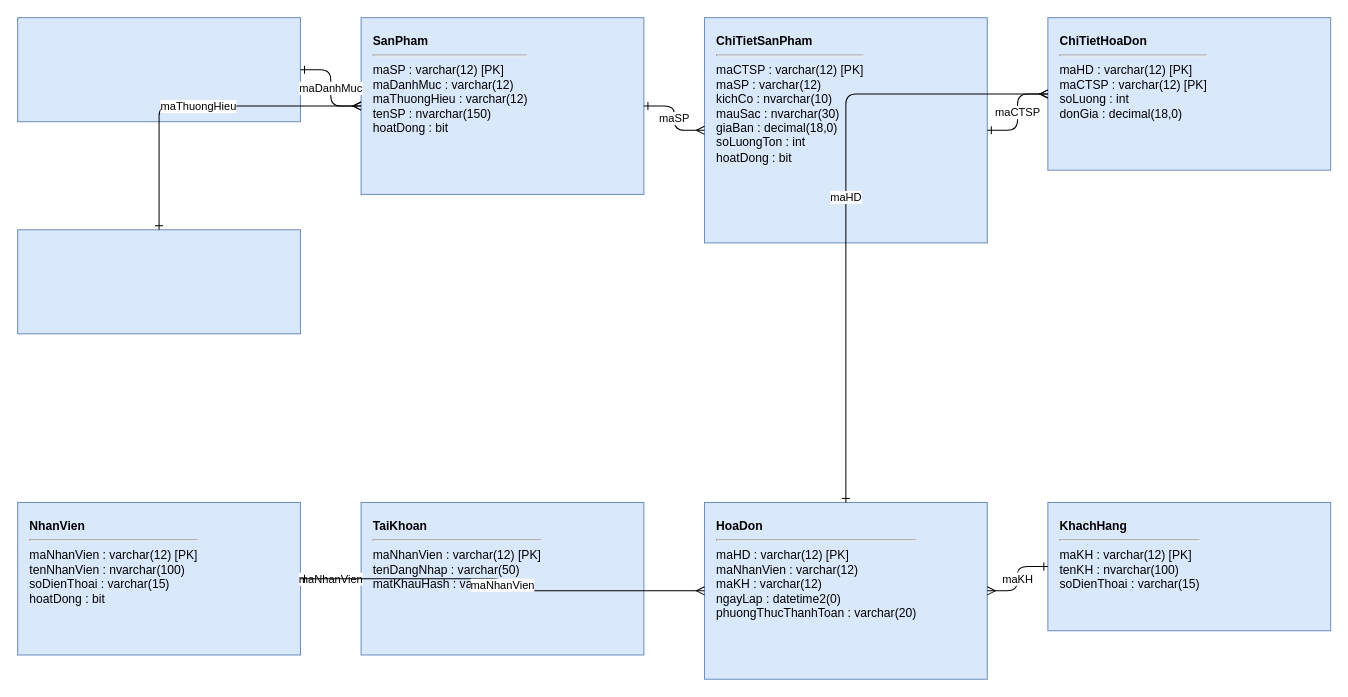
Image size: 1348x697. Some labels were removed from this diagram. Here are the shapes that lost their labels. From the top down, the box of each, then its label:
(17, 17, 300, 122): DanhMuc maDanhMuc : varchar(12) [PK] tenDanhMuc : nvarchar(100)
(17, 229, 300, 334): ThuongHieu maThuongHieu : varchar(12) [PK] tenThuongHieu : nvarchar(100)
